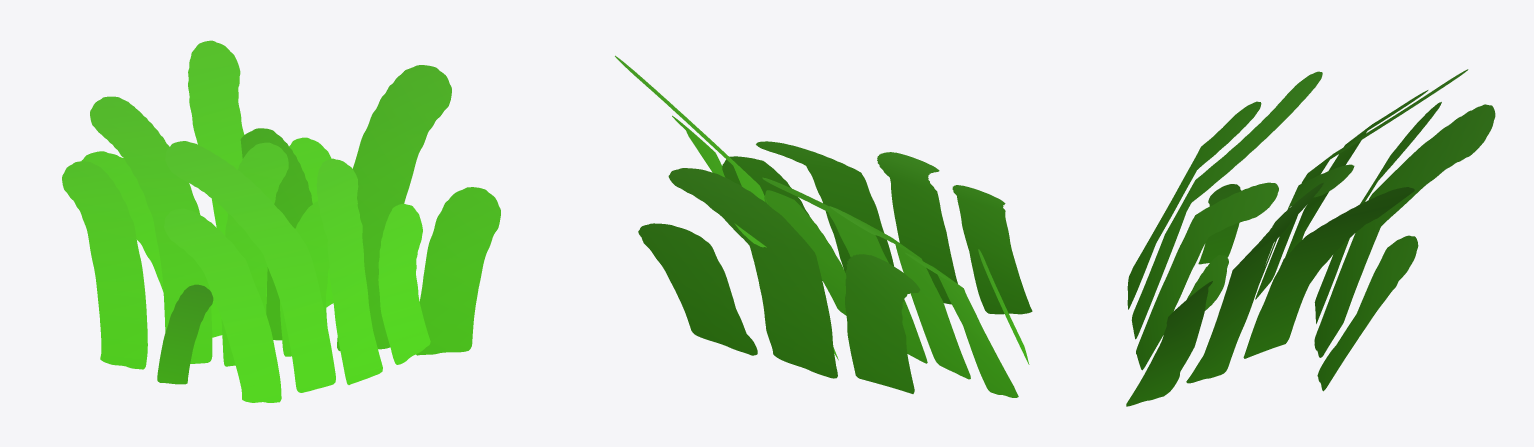
The model's file is Grass_1c.fbx.
3 views of the same model, side by side, from view 1: azimuth 30°, elevation 25°; view 2: azimuth 150°, elevation 25°; view 3: azimuth 270°, elevation 25° (orthographic). The views are drawn at different scales.
Visible parts, largest first — view 1: Grass_1c; view 2: Grass_1c; view 3: Grass_1c.
Part boxes in pixels (x1=…): Grass_1c: x1=62, y1=40, x2=500, y2=402; Grass_1c: x1=615, y1=55, x2=1032, y2=397; Grass_1c: x1=1126, y1=69, x2=1495, y2=406.
Bounding box in the file's own units: 25.03 × 13.08 × 18.26.
